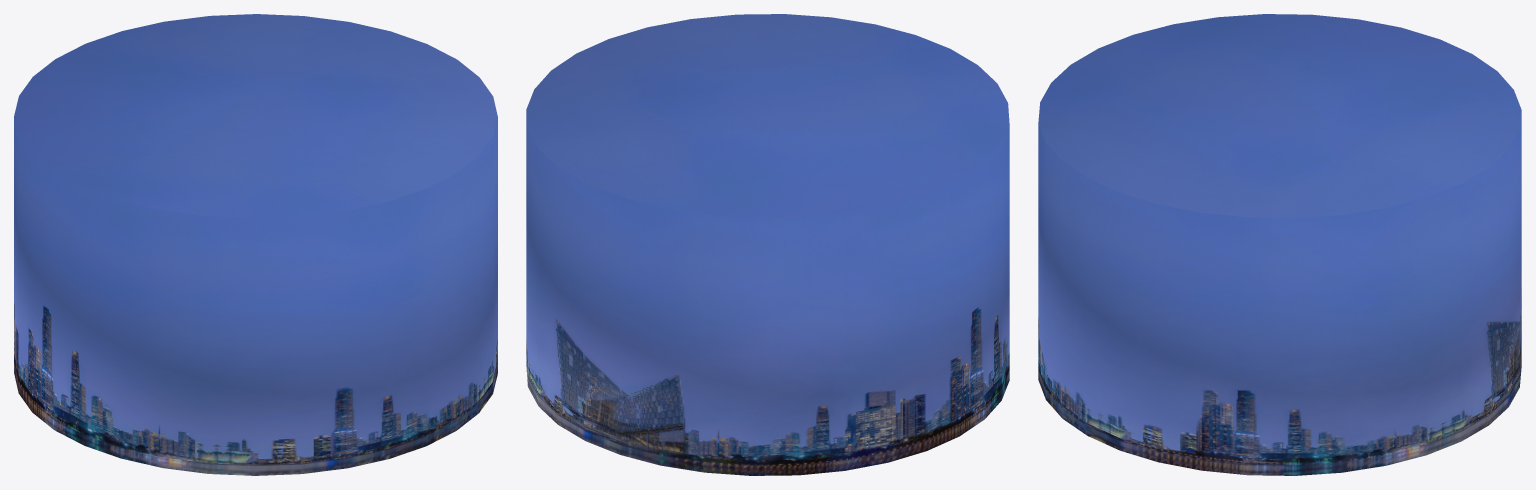
Rendered from changjing_1.glb.
3 renders of one model, left to right at view 1: azimuth 30°, elevation 25°; view 2: azimuth 150°, elevation 25°; view 3: azimuth 270°, elevation 25°, orthographic.
Parts seen in each view (by area): view 1: 柱体; view 2: 柱体; view 3: 柱体.
Boxes of the visible parts, x1=… form: 柱体: x1=14, y1=14, x2=497, y2=475; 柱体: x1=526, y1=14, x2=1009, y2=475; 柱体: x1=1038, y1=14, x2=1521, y2=475.
Size of what is drawn, in the model's own units: 53.33 by 31.4 by 53.33.
Materials: 1 (1 with a texture image).
